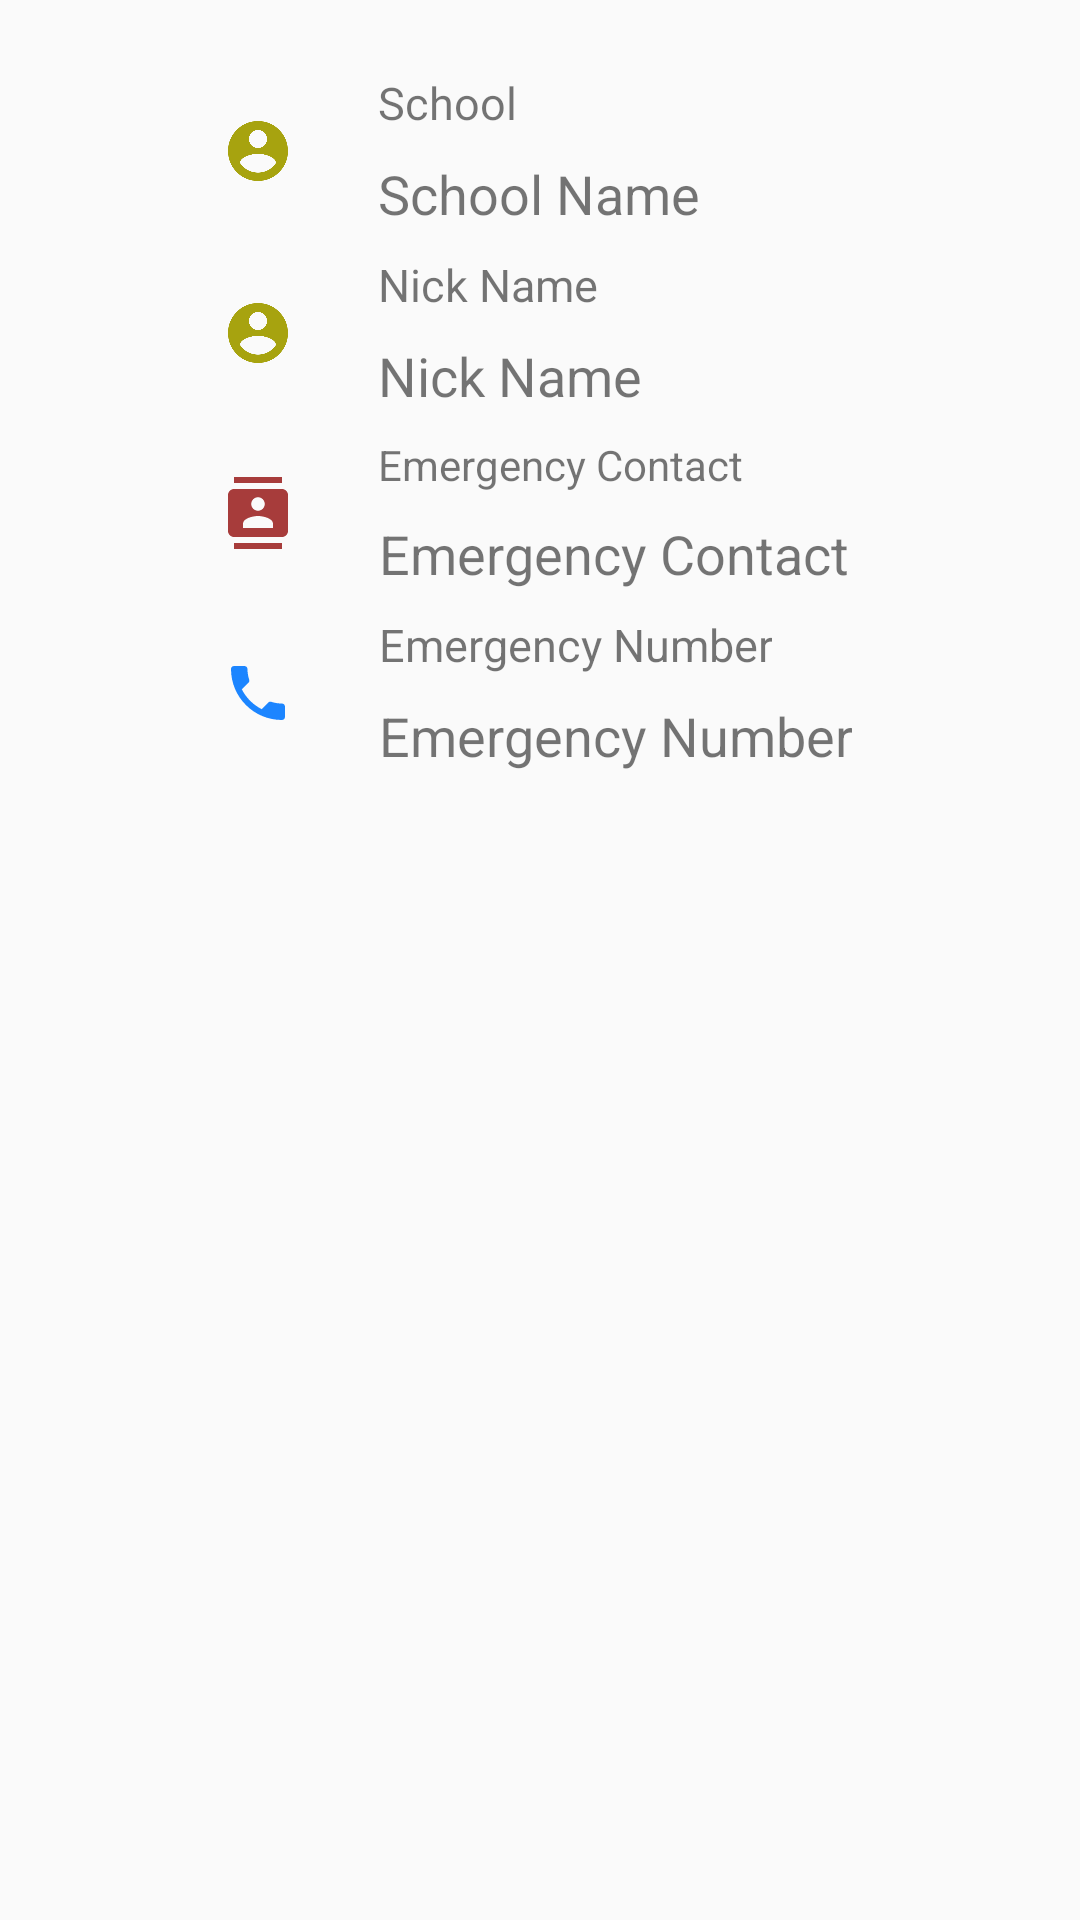

Icon click points for this 1080px×1920px phone screenshot, format point (x, y):
account circle: point (258, 151), point (258, 333)
call: point (258, 693)
contacts: point (258, 513)
